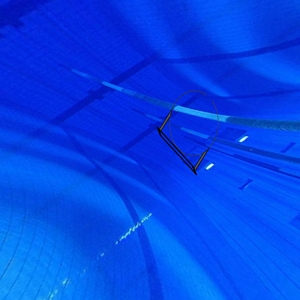circle: (156, 88, 223, 177)
